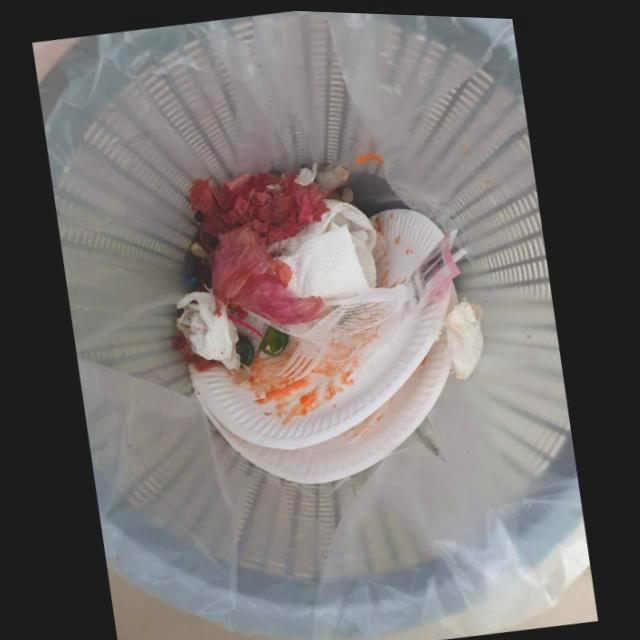cardboard: (190, 283, 451, 447), (209, 328, 453, 480)
paper: (269, 196, 377, 295), (177, 290, 242, 368)
